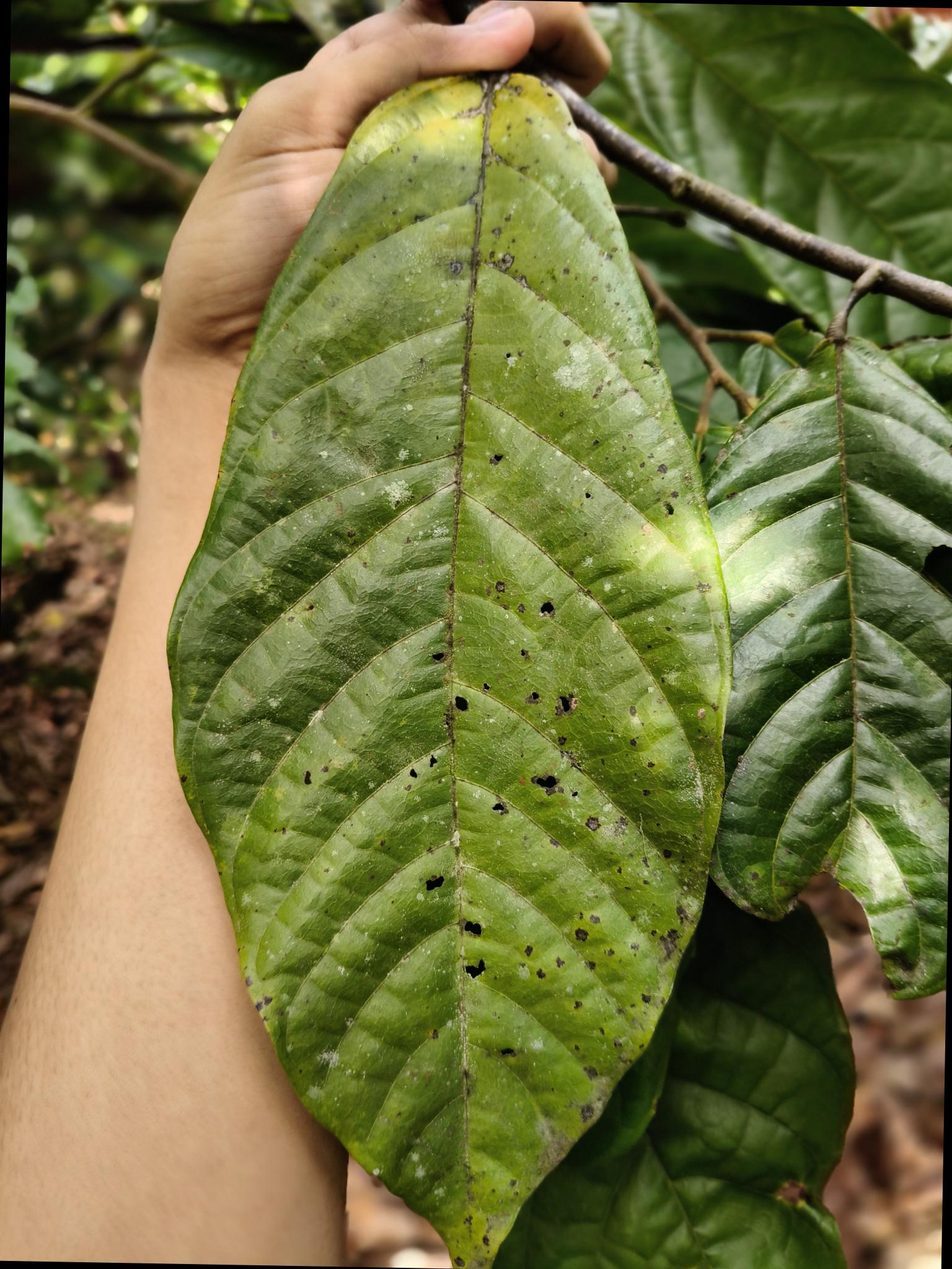Fosforo: (150, 77, 724, 1269)
